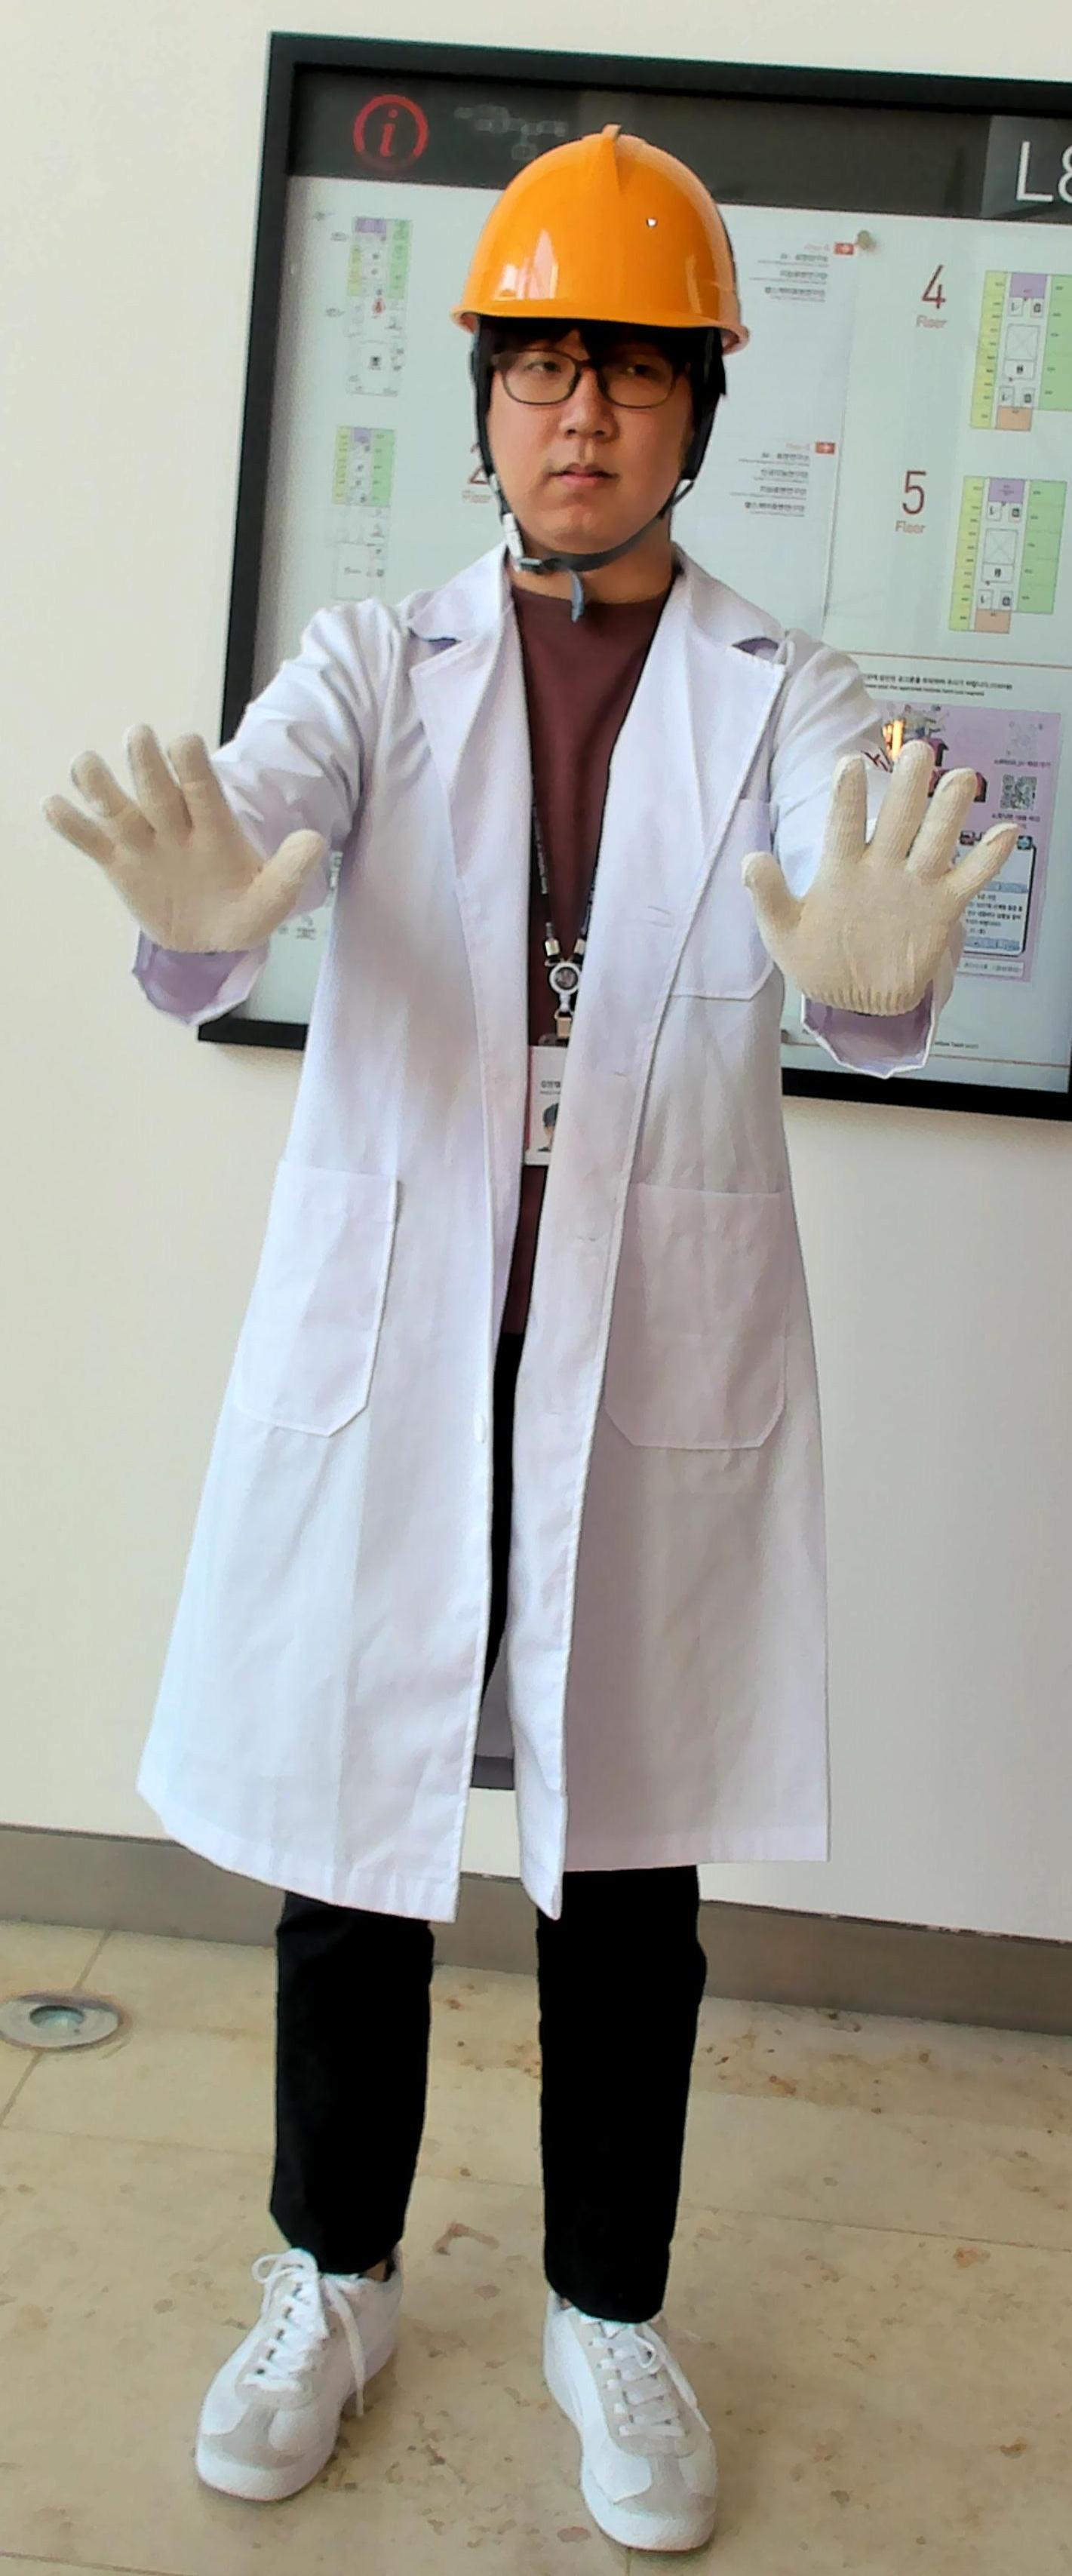lab_coat: (243, 636, 794, 1899)
